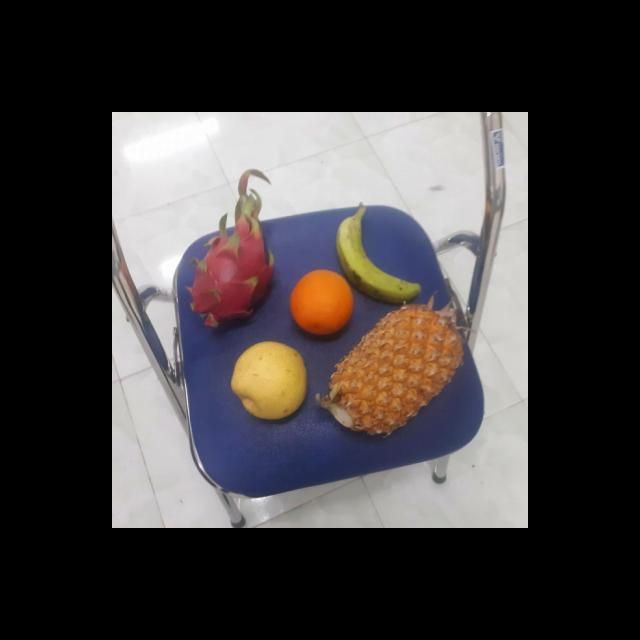orange: (288, 270, 356, 338)
pear: (231, 342, 313, 420)
pineapple: (323, 306, 467, 434)
pitaya: (192, 225, 278, 332)
